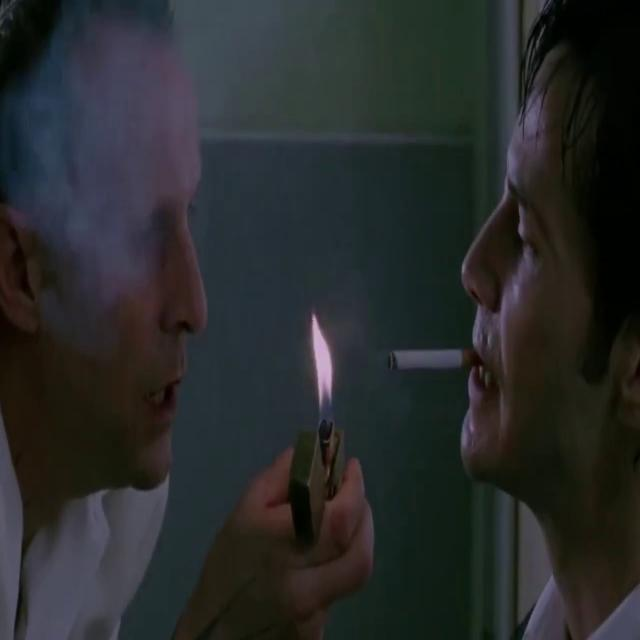Smooking: (383, 320, 482, 391)
